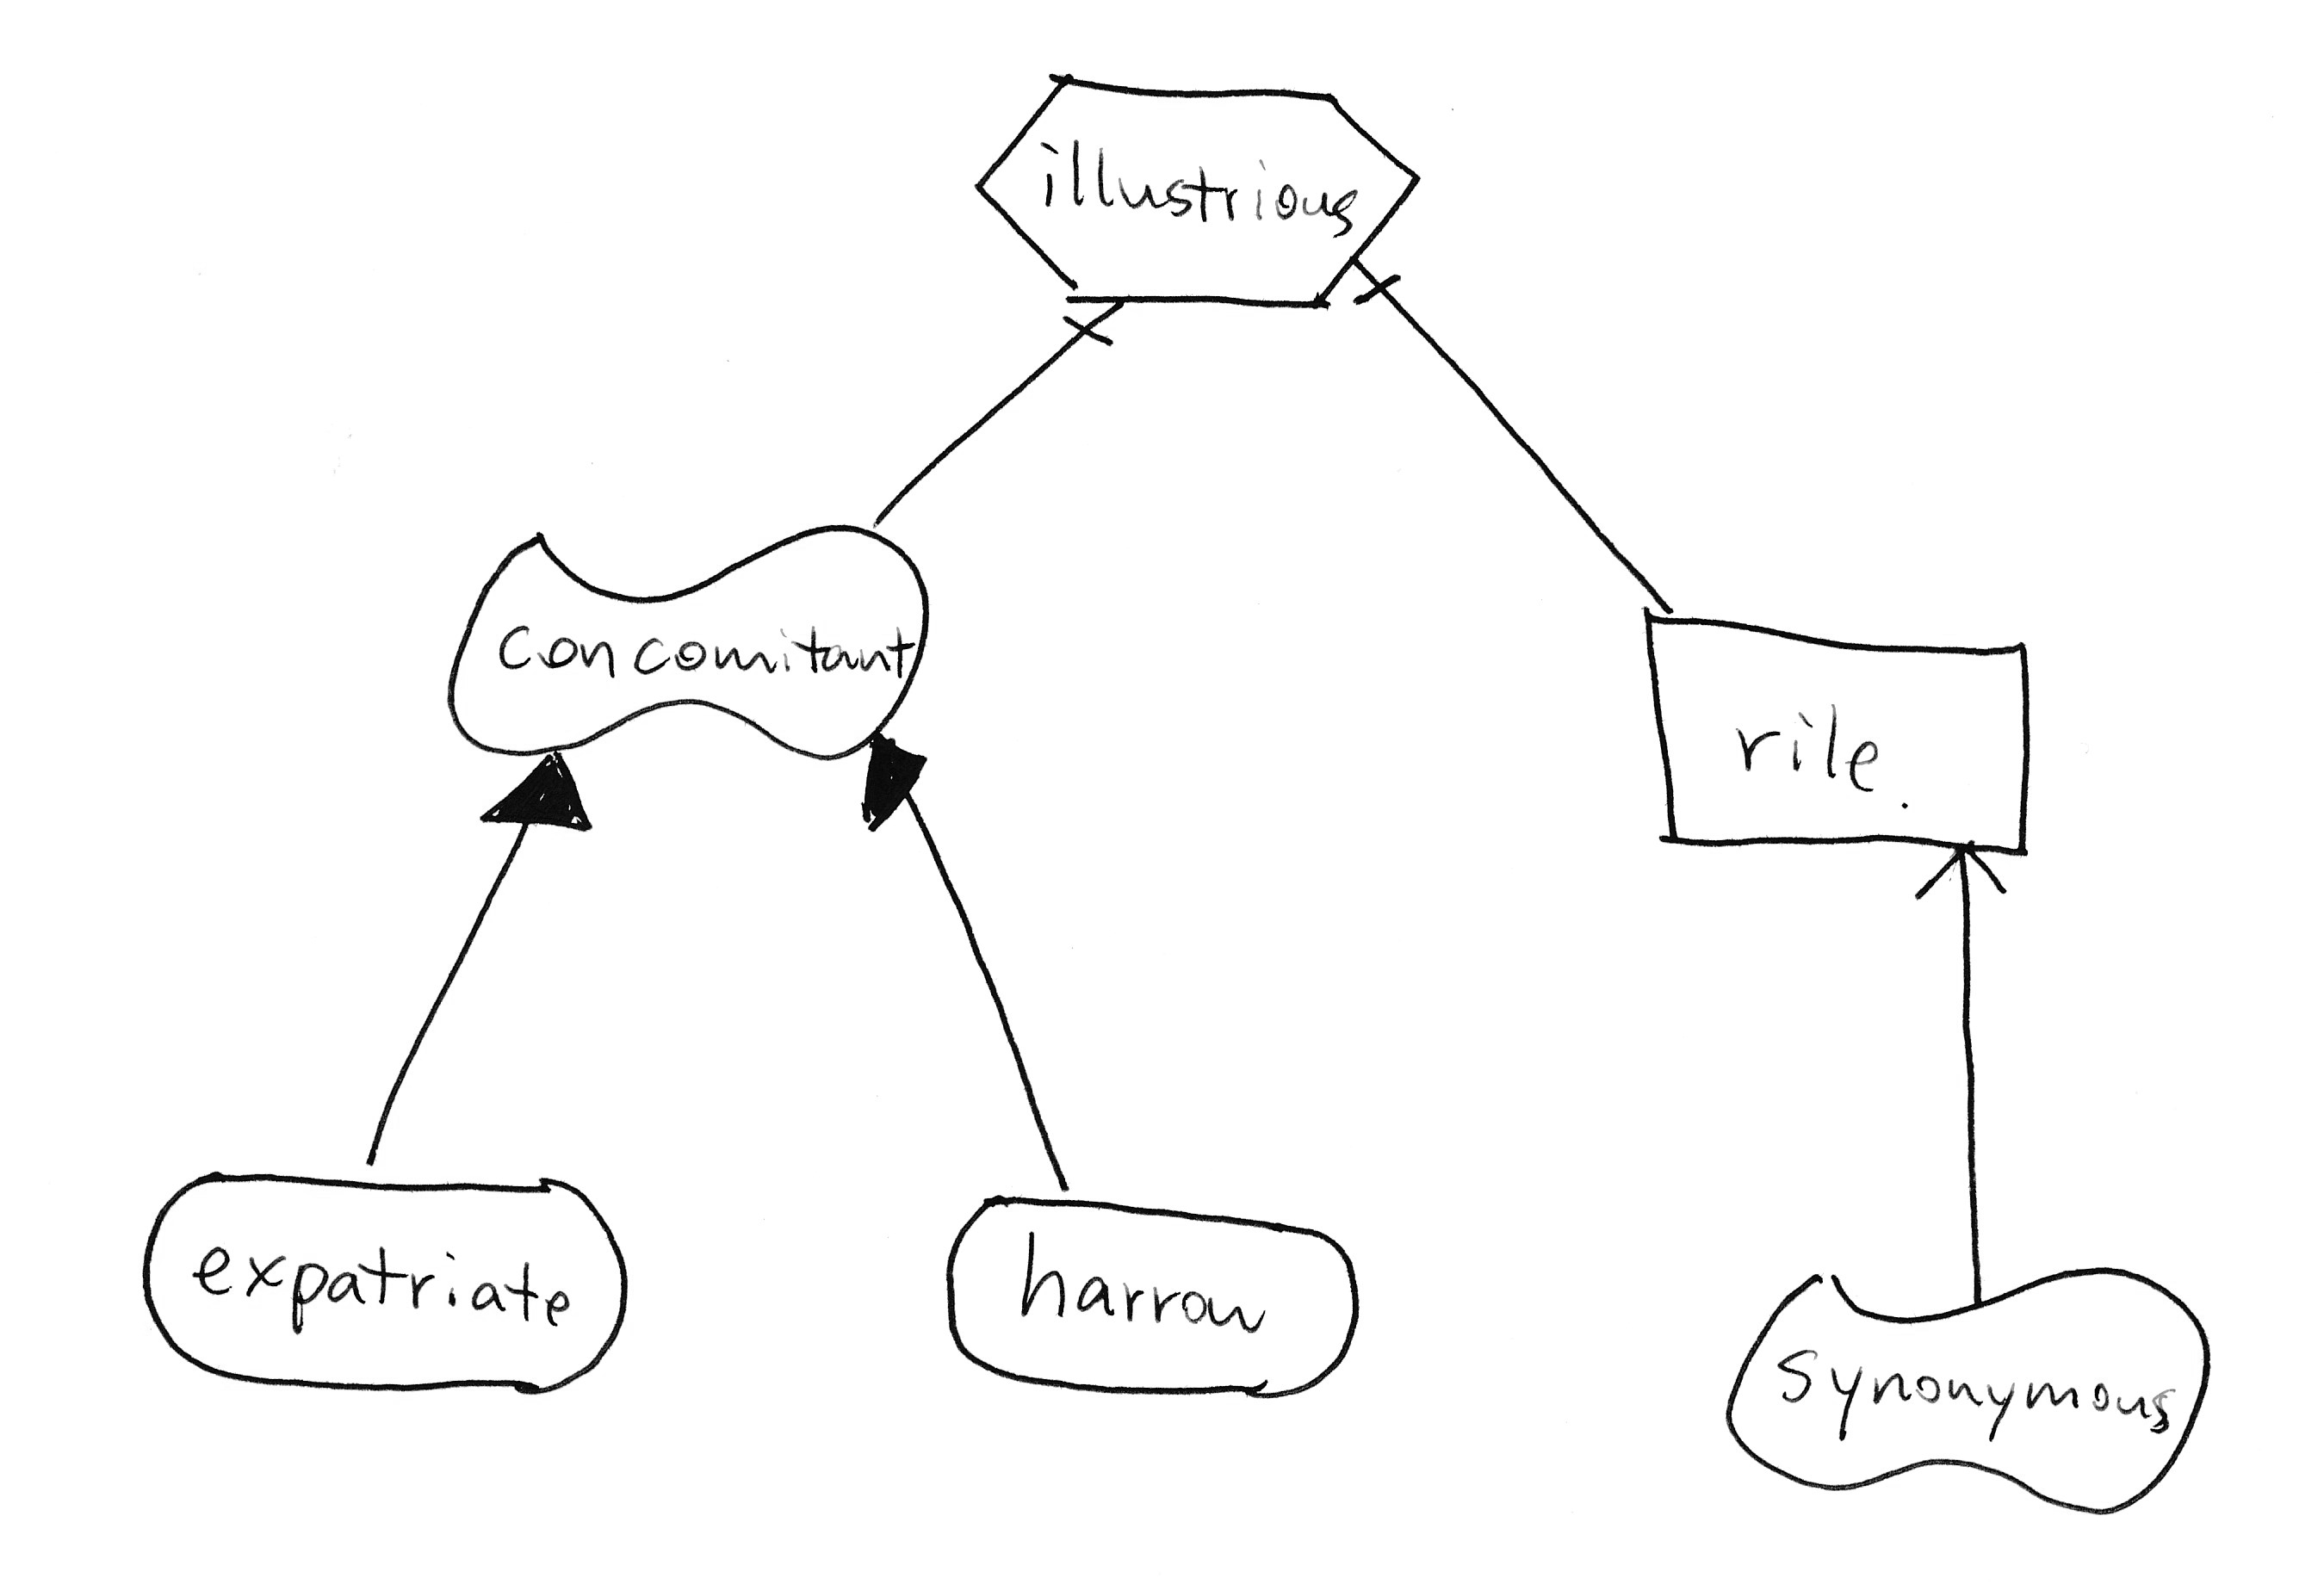and: (1328, 249, 1429, 330), (1051, 286, 1136, 371)
arrow: (1907, 825, 2022, 929)
goal: (124, 1150, 659, 1406), (920, 1176, 1385, 1418)
or: (472, 736, 609, 848), (842, 724, 952, 844)
quality: (420, 507, 954, 777), (1711, 1250, 2234, 1526)
resource: (1616, 586, 2059, 883)
task: (955, 49, 1437, 336)
